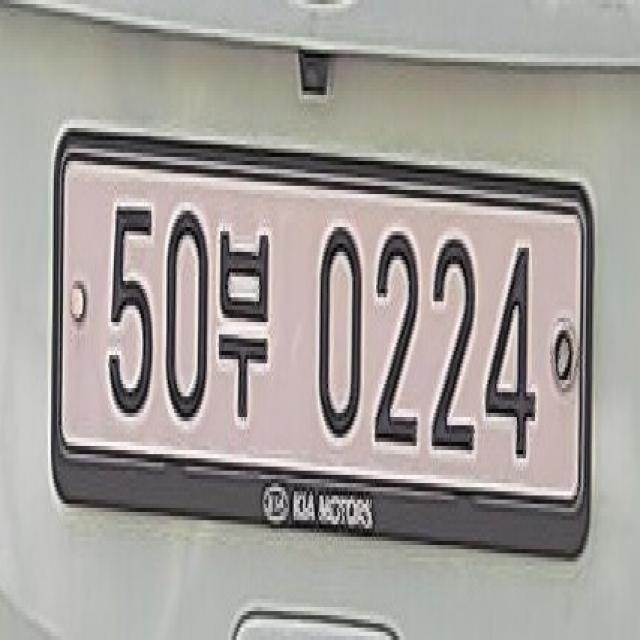0: (315, 210, 363, 452), (162, 196, 210, 435)
2: (373, 215, 427, 462), (429, 226, 481, 464)
4: (484, 242, 544, 466)
5: (100, 203, 156, 427)
bu: (216, 200, 285, 444)
license_plate: (41, 119, 600, 570)
